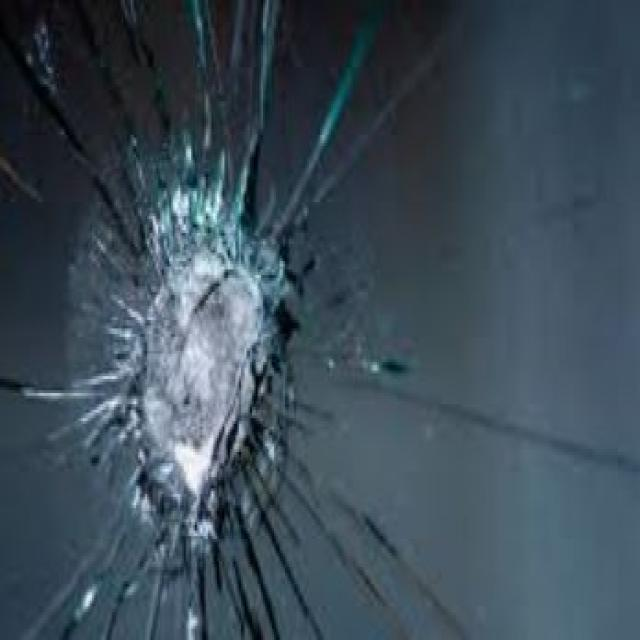electronic: (8, 1, 488, 640)
